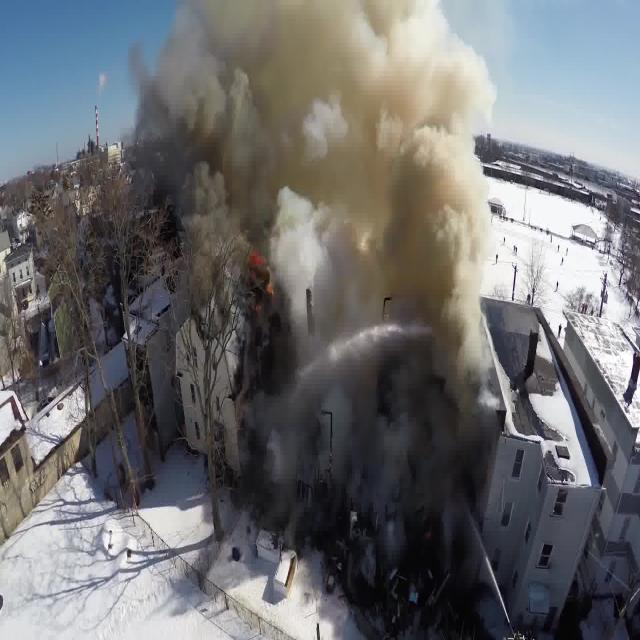Fire: (244, 225, 284, 302)
Smoke: (199, 9, 490, 560), (310, 13, 493, 380), (230, 346, 476, 542), (125, 0, 342, 193)
